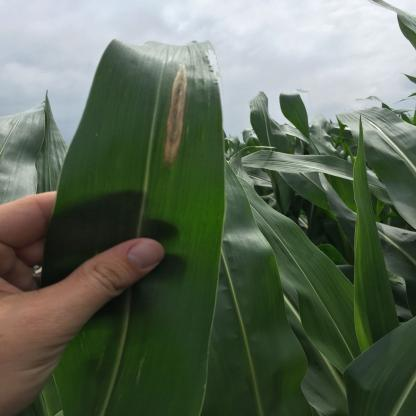corn leaf blight: (68, 12, 239, 235)
